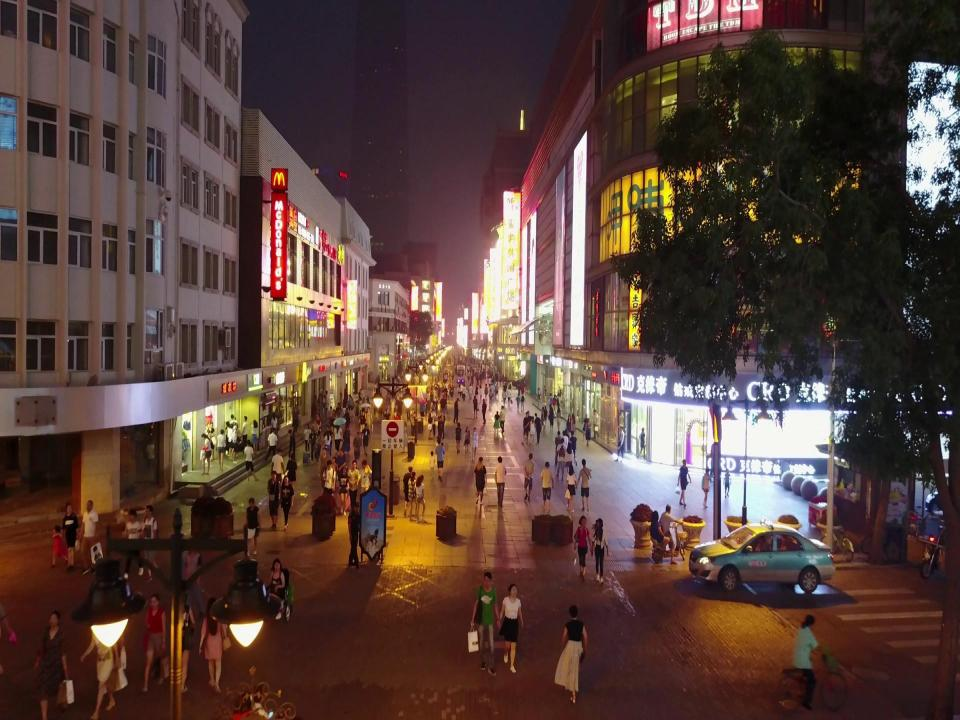car: (687, 521, 836, 595), (512, 376, 544, 390)
